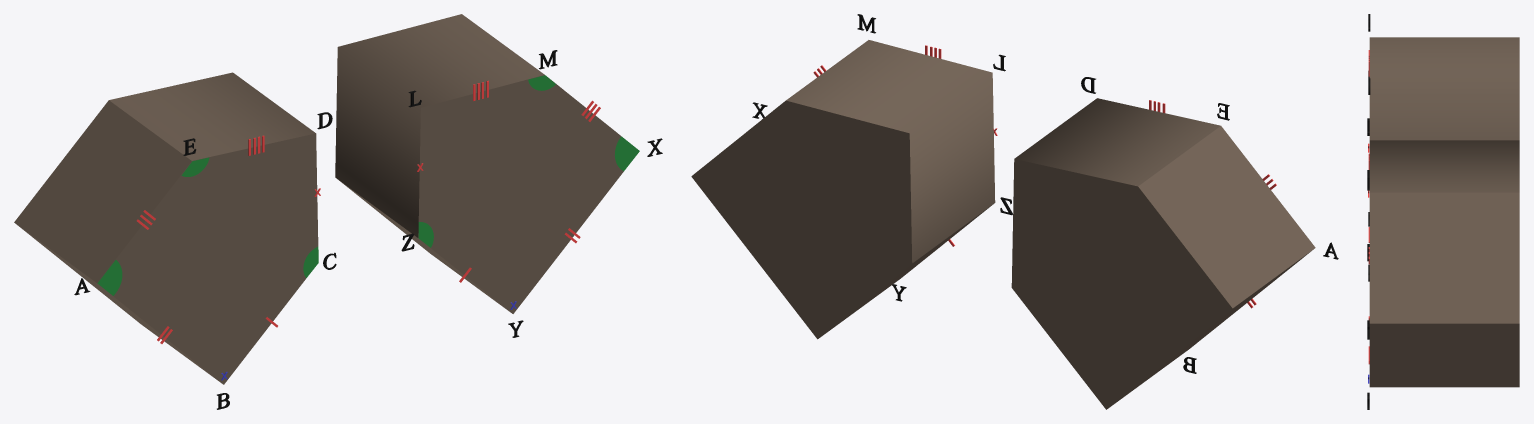
The model's file is الحالة الأولي.glb.
3 views of the same model, side by side, from view 1: azimuth 30°, elevation 25°; view 2: azimuth 150°, elevation 25°; view 3: azimuth 270°, elevation 25° (orthographic). The views are drawn at different scales.
Parts seen in each view (by area): view 1: Box022, Box001; view 2: Box022, Box001; view 3: Box001, Box022.
Part boxes in pixels (x1,y1,x2,y2): Box022: (14, 72, 318, 384); Box001: (335, 14, 623, 313); Box022: (1011, 98, 1315, 409); Box001: (691, 40, 995, 339); Box001: (1369, 140, 1519, 387); Box022: (1369, 37, 1519, 140).
Size of the model in its own units: 0.2807 by 0.1264 by 0.0699.
